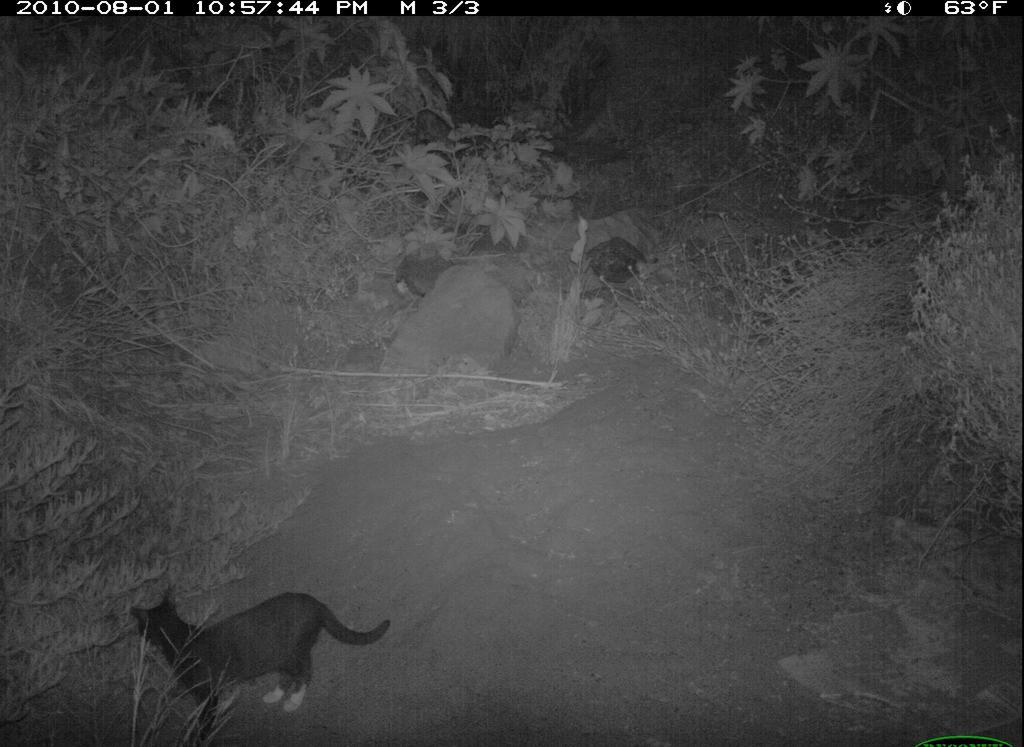cat: (127, 566, 404, 735)
